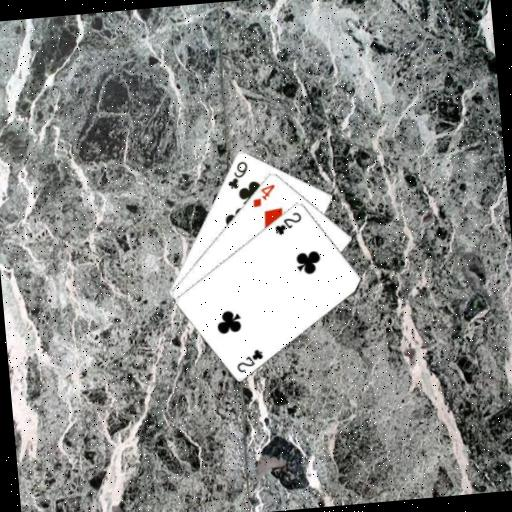2C: (271, 209, 305, 238), (232, 346, 266, 375)
4D: (248, 181, 278, 209)
9C: (223, 158, 251, 192)
